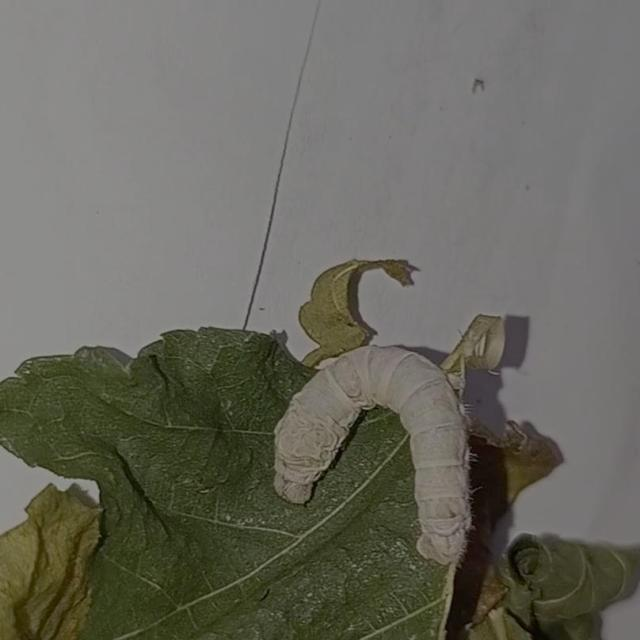Healthy: (258, 324, 496, 580)
